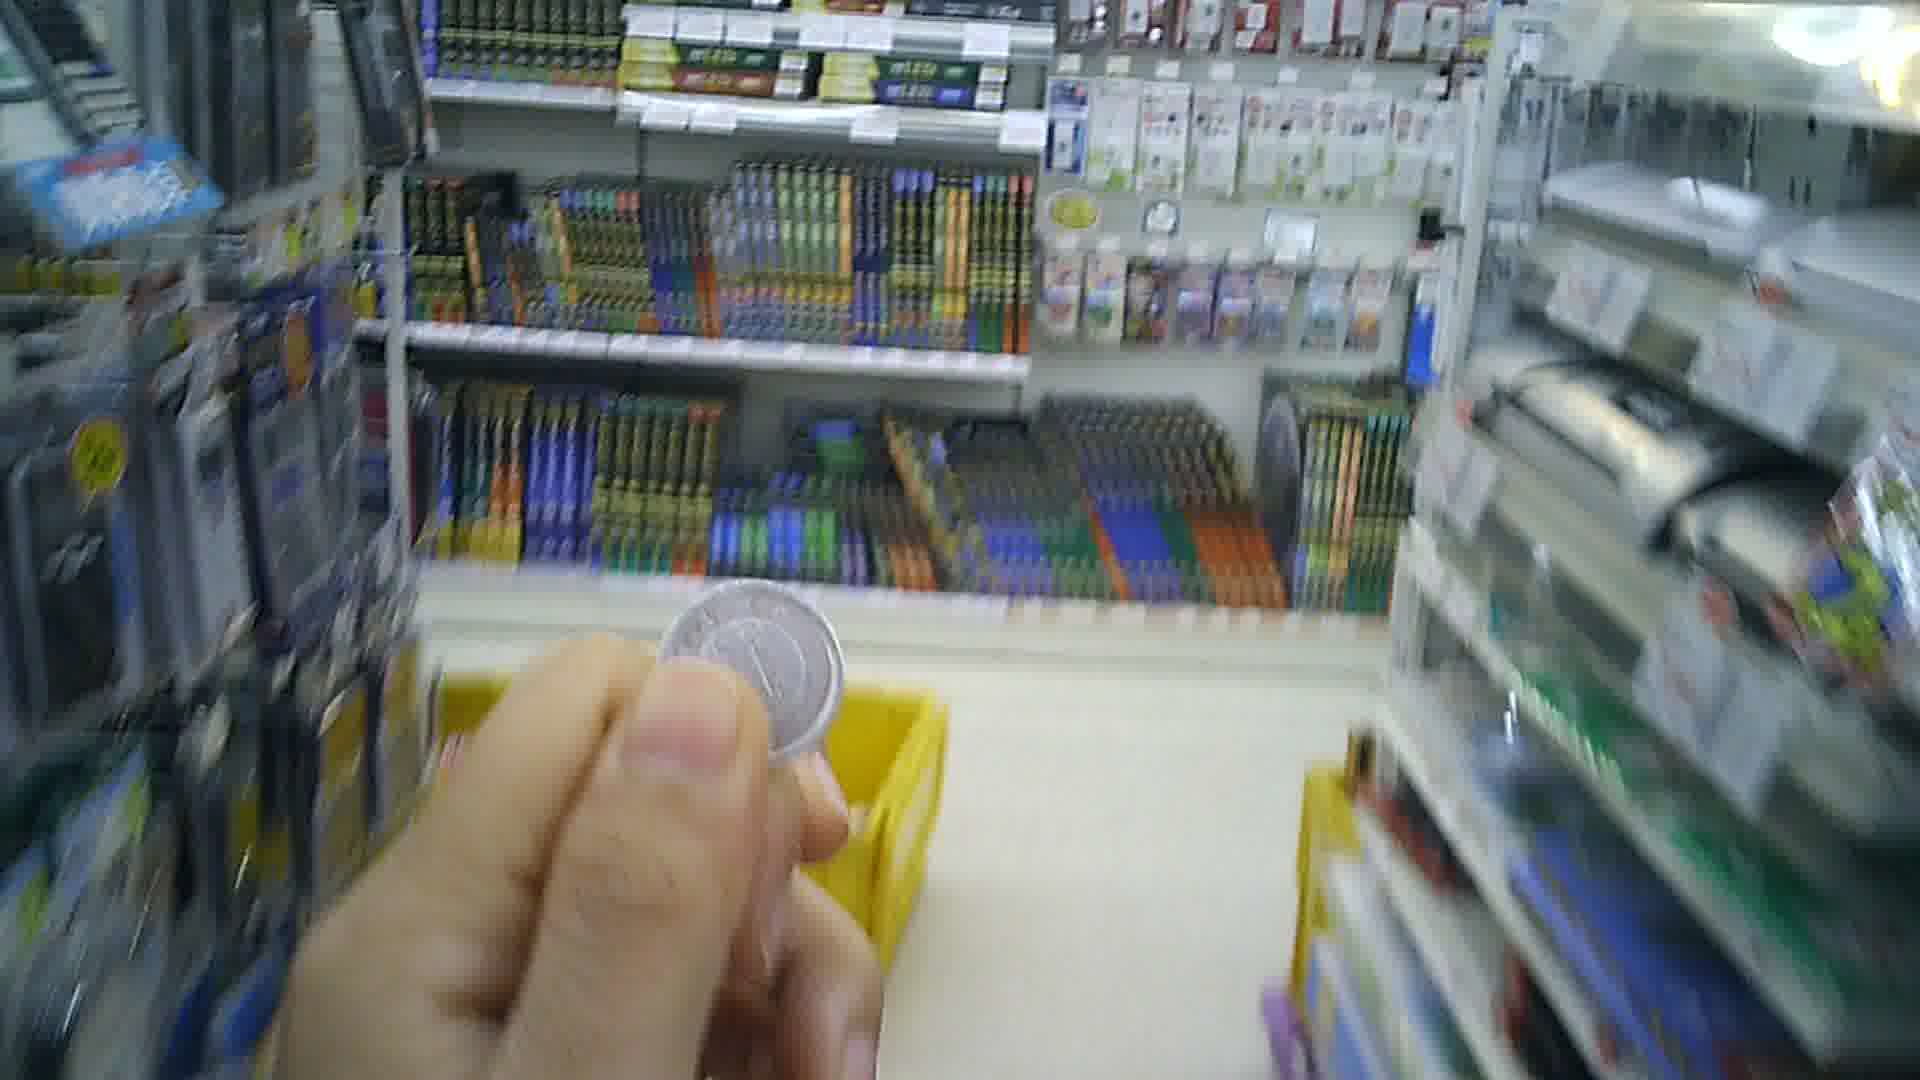1 Yen: (647, 578, 852, 774)
